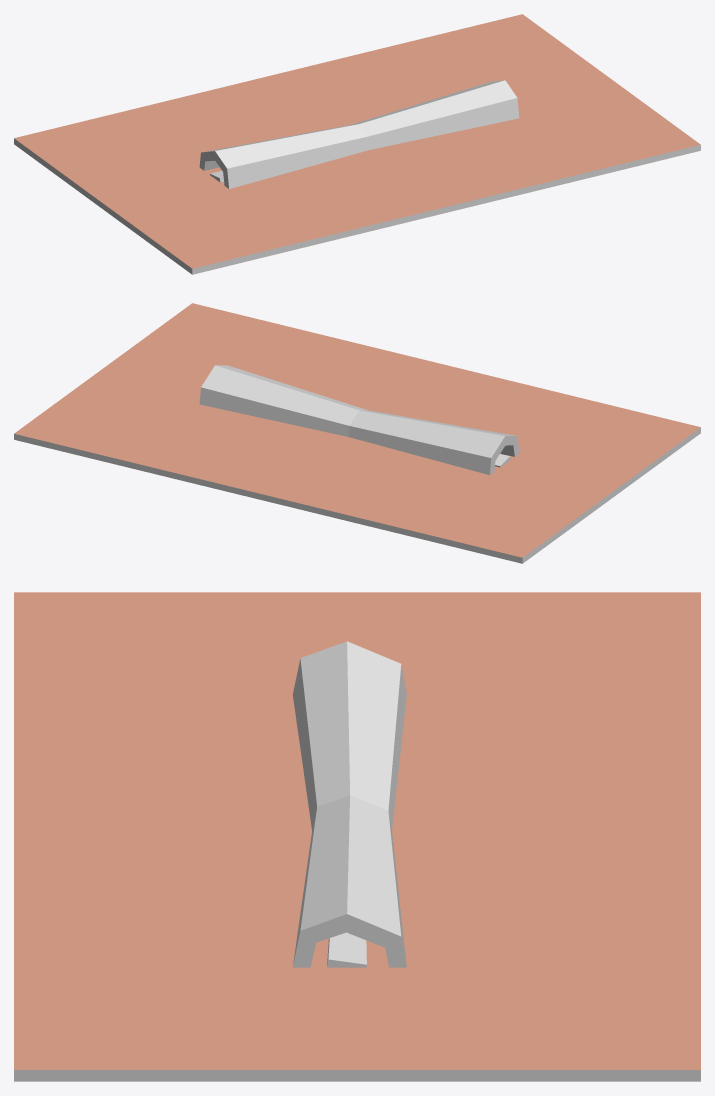
The model's file is Map.fbx.
The picture shows the model from 3 angles, top to bottom: view 1: azimuth 30°, elevation 25°; view 2: azimuth 150°, elevation 25°; view 3: azimuth 270°, elevation 25°; orthographic projection. The views are drawn at different scales.
Parts seen in each view (by area): view 1: Map, Parchemin; view 2: Map, Parchemin; view 3: Map, Parchemin.
Part boxes in pixels (box(x1,y1,x2,y2)): Map: box(14, 14, 700, 274); Parchemin: box(199, 80, 519, 188); Map: box(14, 303, 700, 563); Parchemin: box(199, 365, 519, 475); Map: box(14, 592, 700, 1081); Parchemin: box(292, 641, 406, 967).
Bounding box in the file's own units: 103 × 11 × 62.3.
